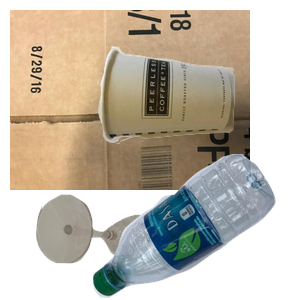cardboard: (10, 10, 250, 190)
glass: (34, 192, 187, 300)
plastic: (90, 154, 300, 300)
trash: (95, 44, 300, 180)
